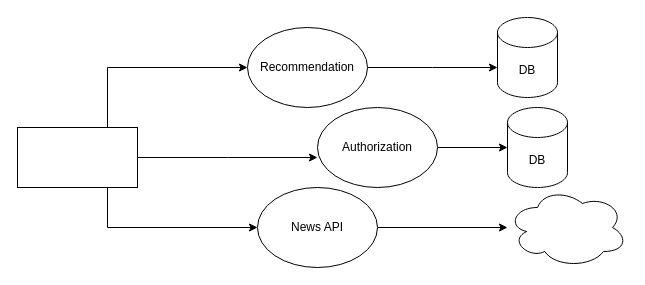
This 645x285 diagram has some shape labels left out. The shapes that lost their labels are listed below. From the top down, each one's box as (x1, y1, x2, y2) in pixels, then its label:
(16, 126, 138, 188): FRONTEND
(506, 186, 628, 268): Cloud API
